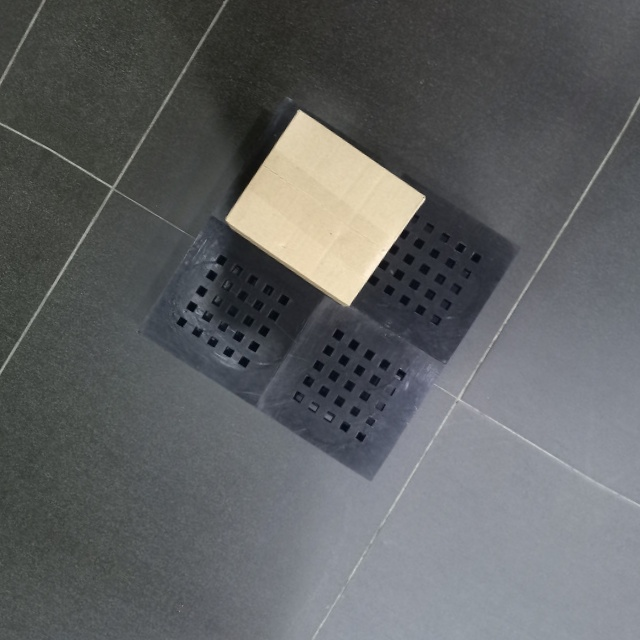box: (220, 103, 428, 313)
pallet: (136, 94, 523, 485)
